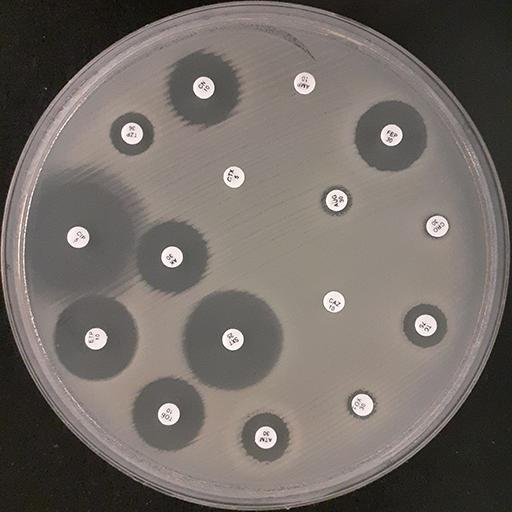disc: (348, 390, 375, 418), (252, 424, 279, 451), (379, 122, 404, 148), (83, 326, 109, 351), (413, 312, 438, 338), (292, 69, 316, 96), (155, 402, 182, 426), (65, 225, 91, 249), (222, 164, 246, 189), (324, 188, 349, 212), (424, 214, 449, 238), (120, 121, 143, 146), (192, 76, 216, 99), (222, 326, 244, 351), (322, 290, 345, 313), (161, 245, 183, 268)
